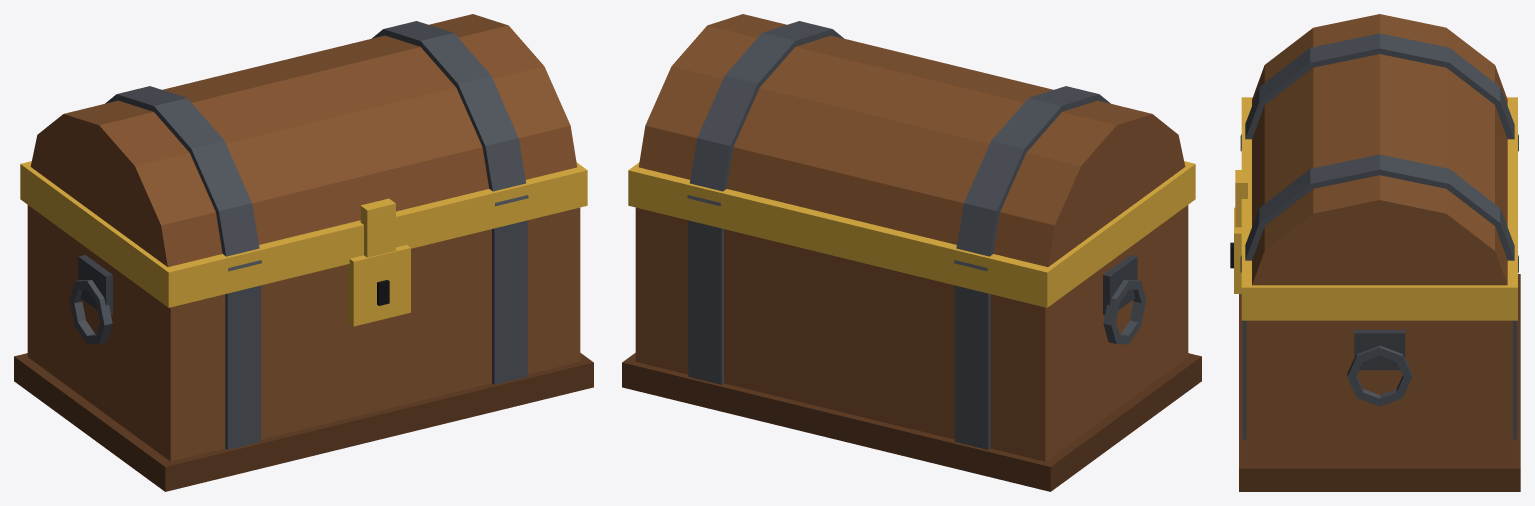
Rendered from TreasureChest.roblox.glb.
The picture shows the model from 3 angles, left to right: view 1: azimuth 30°, elevation 25°; view 2: azimuth 150°, elevation 25°; view 3: azimuth 270°, elevation 25°; orthographic projection. The views are drawn at different scales.
Visible parts, largest first — view 1: Lid, Base, Plinth, LidRim, Rim, LidStrapL, LidStrapR, StrapR, StrapL, LockPlate, Hasp, HandleL (+1 smaller); view 2: Base, Lid, Plinth, LidRim, Rim, LidStrapL, LidStrapR, StrapR, StrapL, HandleL, HandlePlateL; view 3: Lid, Base, Plinth, LidRim, LidStrapR, LidStrapL, Rim, HandleR, HandlePlateR, StrapR, Hasp, LockPlate.
Part boxes in pixels (left/top/right/bottom): Lid: left=30, top=14, right=577, bottom=266; Base: left=27, top=205, right=580, bottom=461; Plinth: left=14, top=353, right=593, bottom=491; LidRim: left=20, top=161, right=587, bottom=290; Rim: left=20, top=182, right=587, bottom=307; LidStrapL: left=105, top=86, right=261, bottom=271; LidStrapR: left=372, top=21, right=528, bottom=206; StrapR: left=492, top=220, right=527, bottom=384; StrapL: left=225, top=285, right=260, bottom=449; LockPlate: left=347, top=245, right=410, bottom=326; Hasp: left=360, top=198, right=395, bottom=257; HandleL: left=69, top=280, right=112, bottom=344; Base: left=635, top=205, right=1188, bottom=461; Lid: left=638, top=14, right=1185, bottom=266; Plinth: left=622, top=353, right=1201, bottom=491; LidRim: left=628, top=161, right=1195, bottom=290; Rim: left=628, top=182, right=1195, bottom=307; LidStrapL: left=954, top=86, right=1110, bottom=271; LidStrapR: left=687, top=21, right=843, bottom=206; StrapR: left=688, top=220, right=723, bottom=384; StrapL: left=955, top=285, right=990, bottom=449; HandleL: left=1103, top=280, right=1146, bottom=344; HandlePlateL: left=1103, top=255, right=1137, bottom=315; Lid: left=1252, top=14, right=1507, bottom=285; Base: left=1246, top=320, right=1512, bottom=464; Plinth: left=1239, top=274, right=1520, bottom=491; LidRim: left=1241, top=97, right=1517, bottom=304; LidStrapR: left=1240, top=154, right=1518, bottom=272; LidStrapL: left=1240, top=33, right=1518, bottom=151; Rim: left=1241, top=304, right=1517, bottom=320; HandleR: left=1347, top=345, right=1412, bottom=406; HandlePlateR: left=1354, top=330, right=1405, bottom=370; StrapR: left=1242, top=320, right=1516, bottom=439; Hasp: left=1235, top=170, right=1247, bottom=227; LockPlate: left=1234, top=207, right=1241, bottom=293.
Size of the model in its own units: 0.911 by 0.632 by 0.567.
